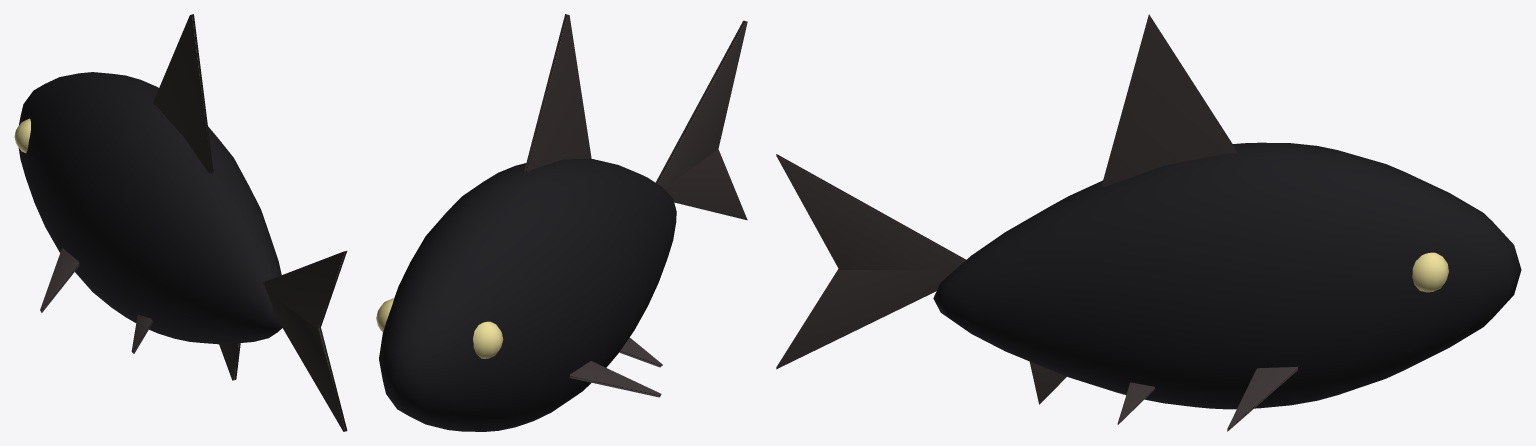
The model's file is fish_shark.glb.
The picture shows the model from 3 angles, left to right: view 1: azimuth 30°, elevation 25°; view 2: azimuth 150°, elevation 25°; view 3: azimuth 270°, elevation 25°; orthographic projection. The views are drawn at different scales.
Parts seen in each view (by area): view 1: fish_shark; view 2: fish_shark; view 3: fish_shark.
Part boxes in pixels (bbox=[...]): fish_shark: bbox=[14, 14, 347, 431]; fish_shark: bbox=[376, 14, 747, 431]; fish_shark: bbox=[776, 14, 1521, 431].
Size of the model in its own units: 0.0403 by 0.055 by 0.095.
